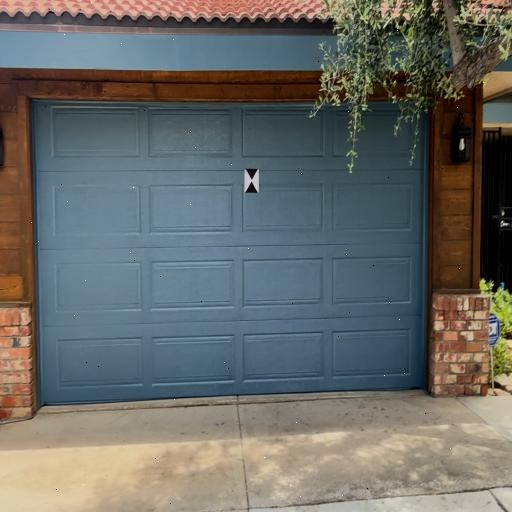target: (244, 168, 259, 194)
